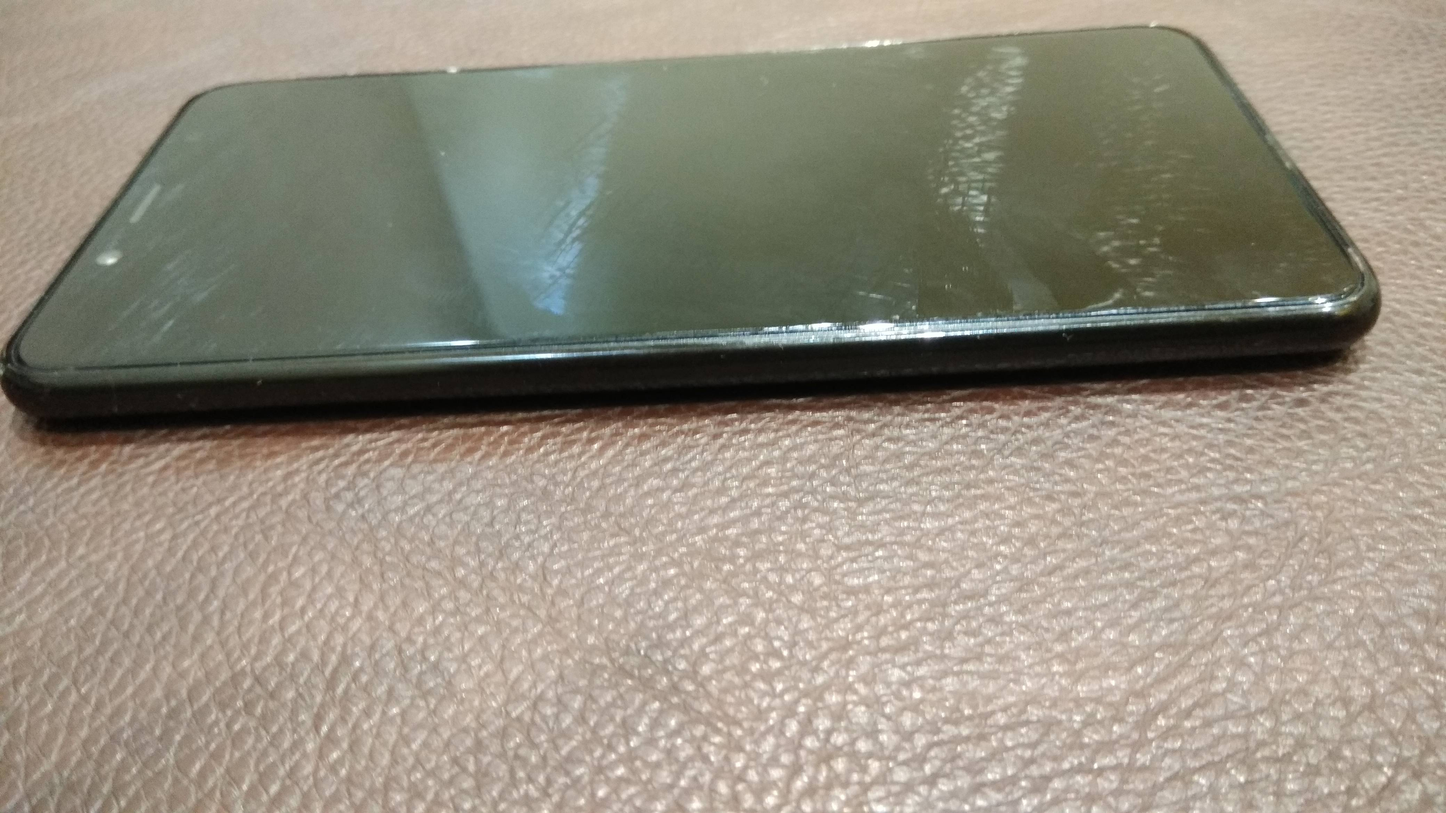Electronics: (2, 0, 1397, 474)
